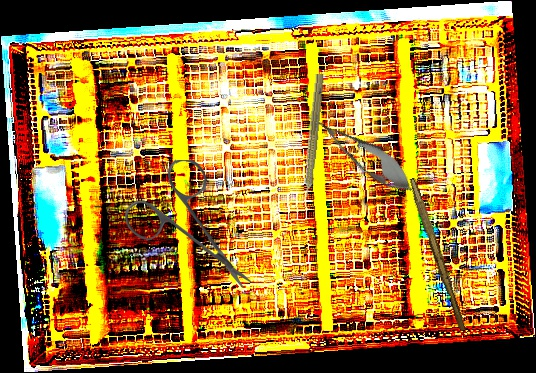Handpiece: (296, 73, 327, 207)
Iris Scissors: (122, 157, 256, 289)
Micro Scissor: (299, 103, 422, 202)
Scalpel Handle: (404, 177, 470, 332)
